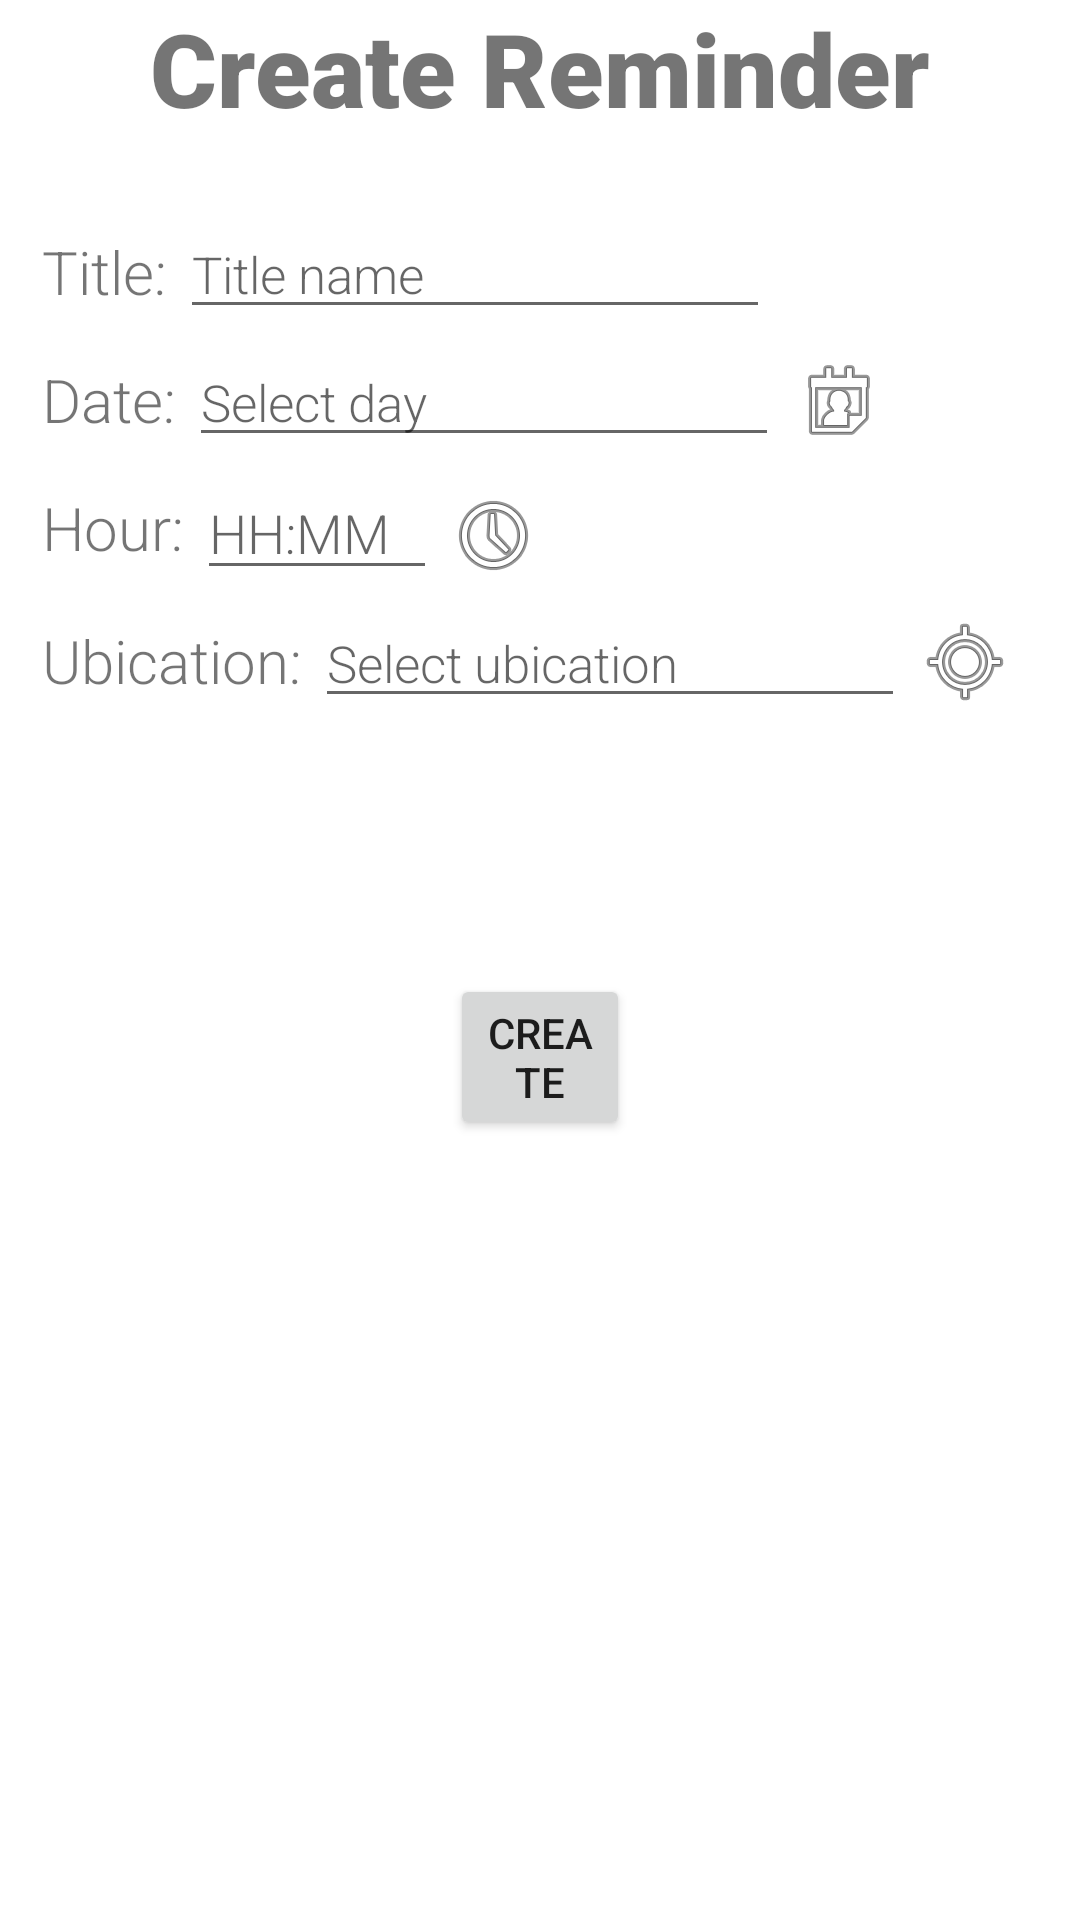

Icon click points for this 1080 × 1920 phone screenshot, format point (x, y):
calendar: point (839, 400)
mylocation: point (965, 662)
recent history: point (493, 535)
